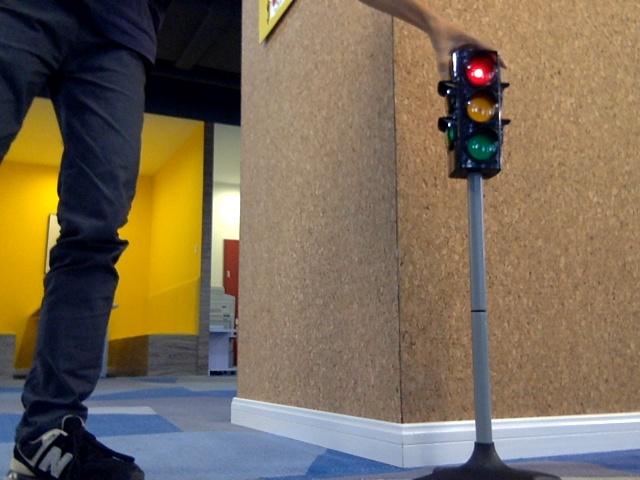red: (457, 56, 497, 166)
